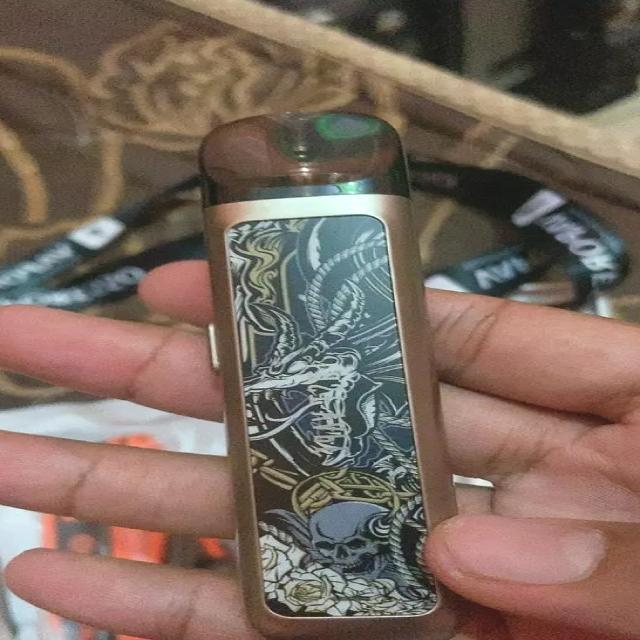Hazard: (208, 110, 469, 640)
